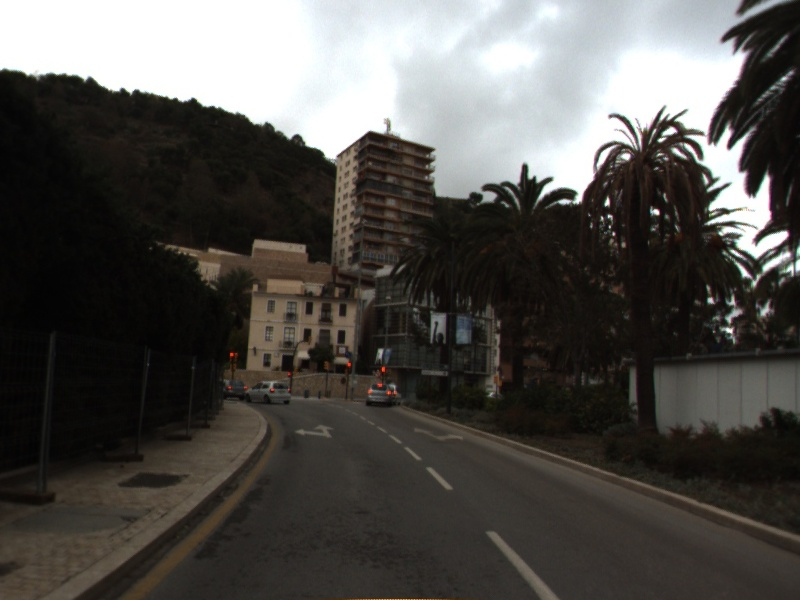STRAIGHT_LEFT: (292, 423, 337, 440)
STRAIGHT_RIGHT: (412, 425, 466, 443)
